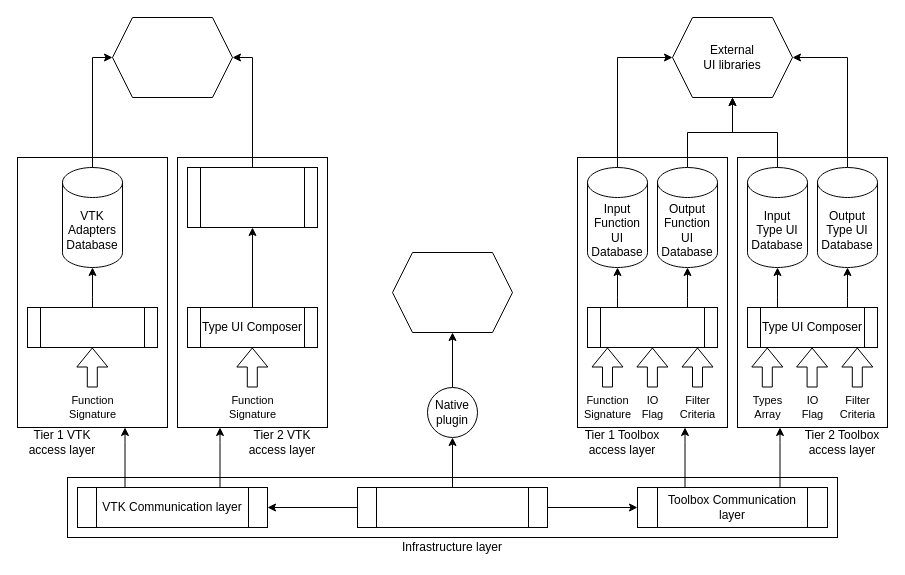
Some shapes in this 905 by 575 pixel diagram are drawn without their labels. The shapes that lost their labels are listed below. From the top down, each one's centre as x and y in pixels, then its label:
At pixel 172 57: "VTK library".
At pixel 252 197: "C++ VTK Introspection Wrapper".
At pixel 452 292: "Unity engine".
At pixel 92 327: "VTK Adapters Managter".
At pixel 652 327: "Function UI Composer".
At pixel 452 507: "Composer".
